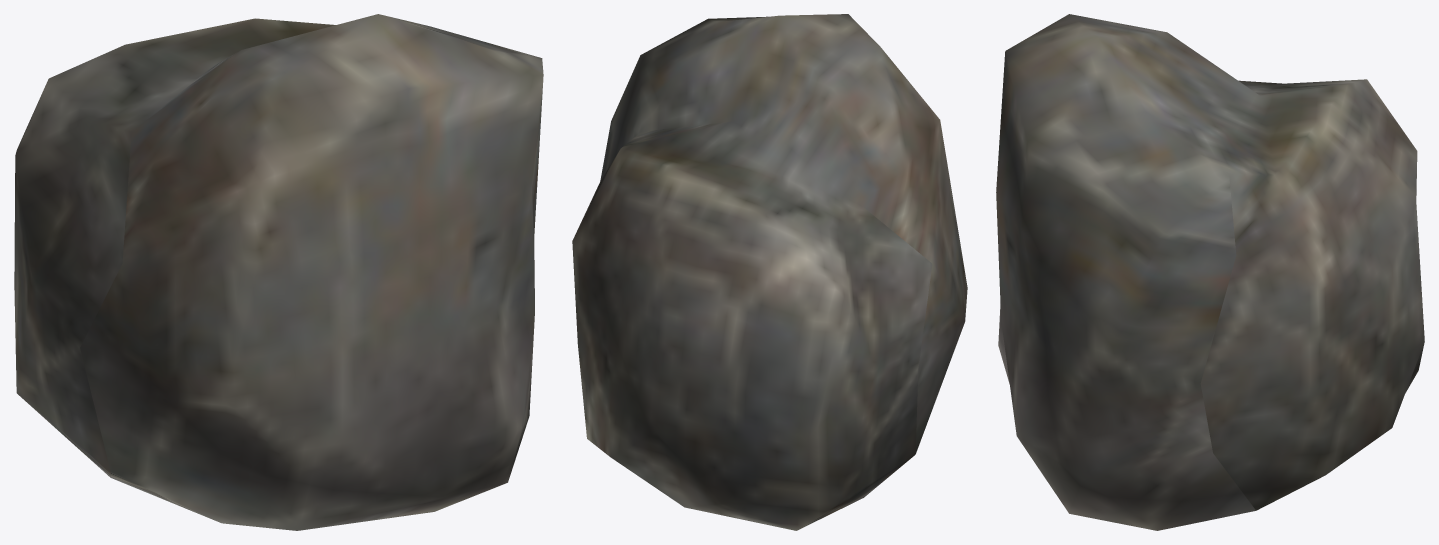
Rendered from StoneCliff_H.fbx.
3 views of the same model, side by side, from view 1: azimuth 30°, elevation 25°; view 2: azimuth 150°, elevation 25°; view 3: azimuth 270°, elevation 25° (orthographic). The views are drawn at different scales.
Parts seen in each view (by area): view 1: Stone_Cliff_H__1_; view 2: Stone_Cliff_H__1_; view 3: Stone_Cliff_H__1_.
Boxes of the visible parts, x1,y1,x2,y2 form: Stone_Cliff_H__1_: [14, 14, 543, 530]; Stone_Cliff_H__1_: [572, 14, 967, 530]; Stone_Cliff_H__1_: [996, 14, 1424, 530].
Size of the model in its own units: 0.4545 by 0.5493 by 0.4741.
